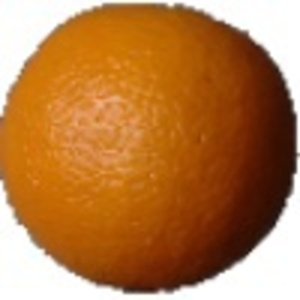laranja: (2, 5, 294, 285)
